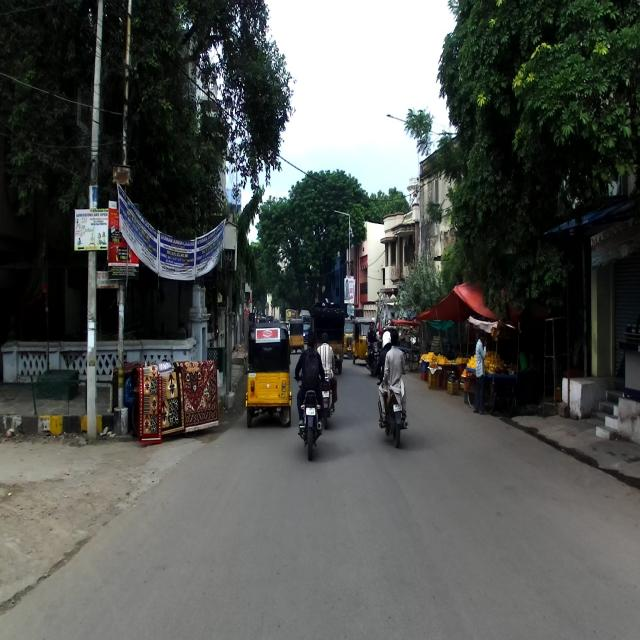motorcycle: (372, 364, 408, 448), (294, 375, 324, 461)
